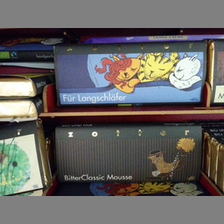chocolate: (52, 43, 206, 107), (50, 122, 203, 184)
